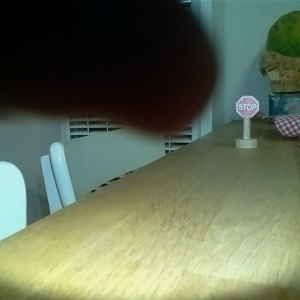stop sign: (234, 93, 260, 151)
